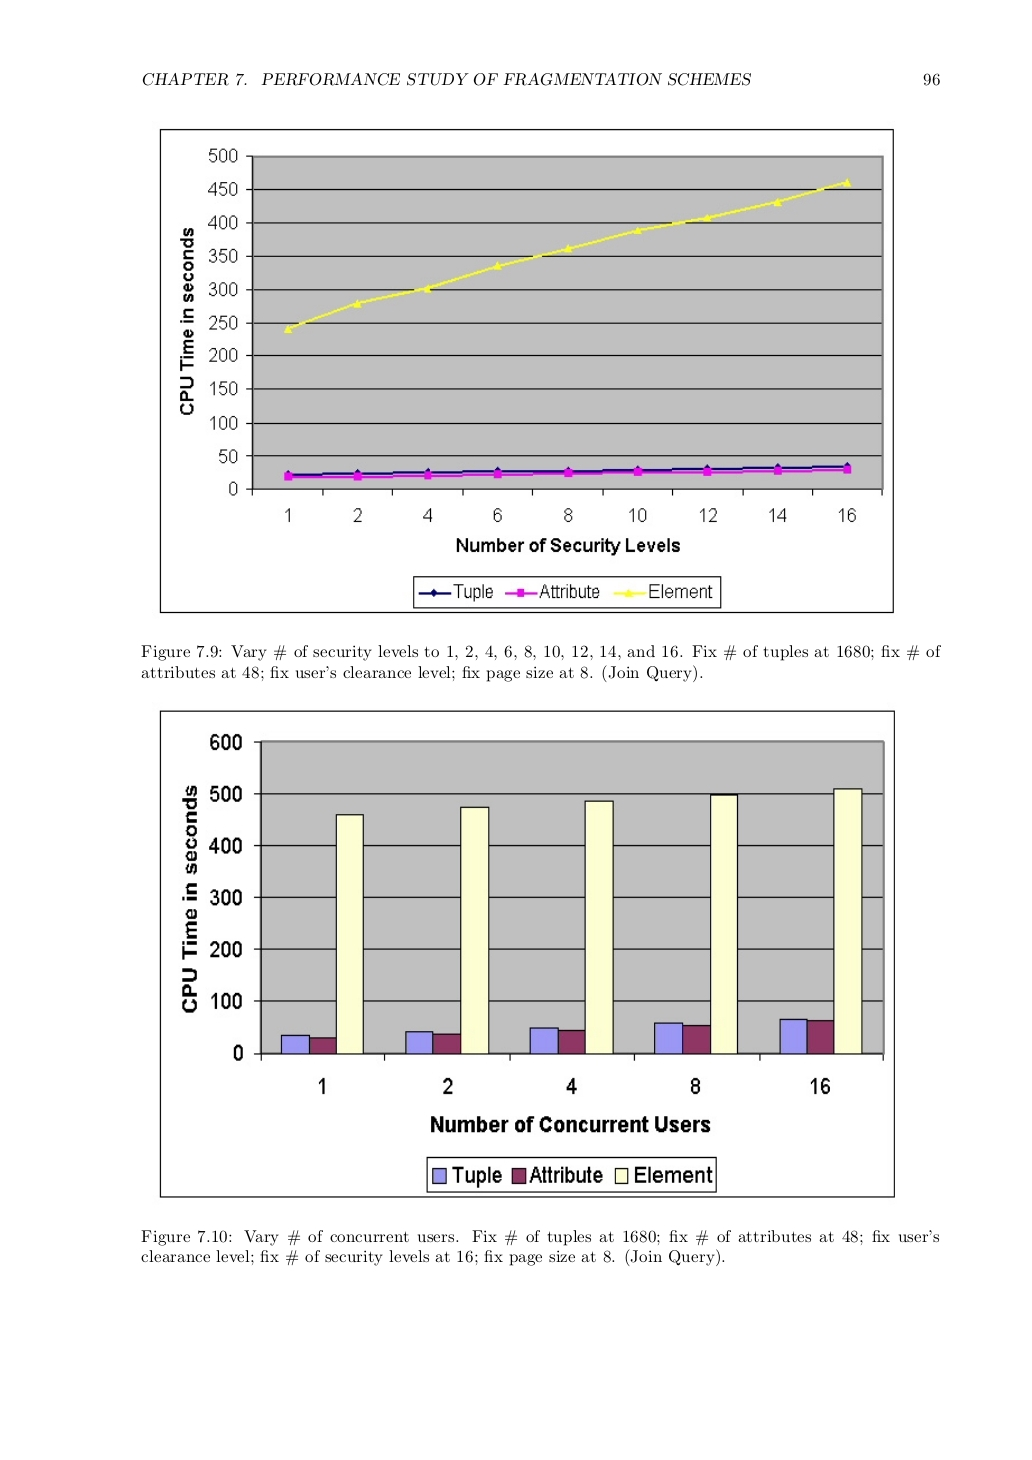figure: (159, 708, 894, 1197), (159, 127, 894, 614)
